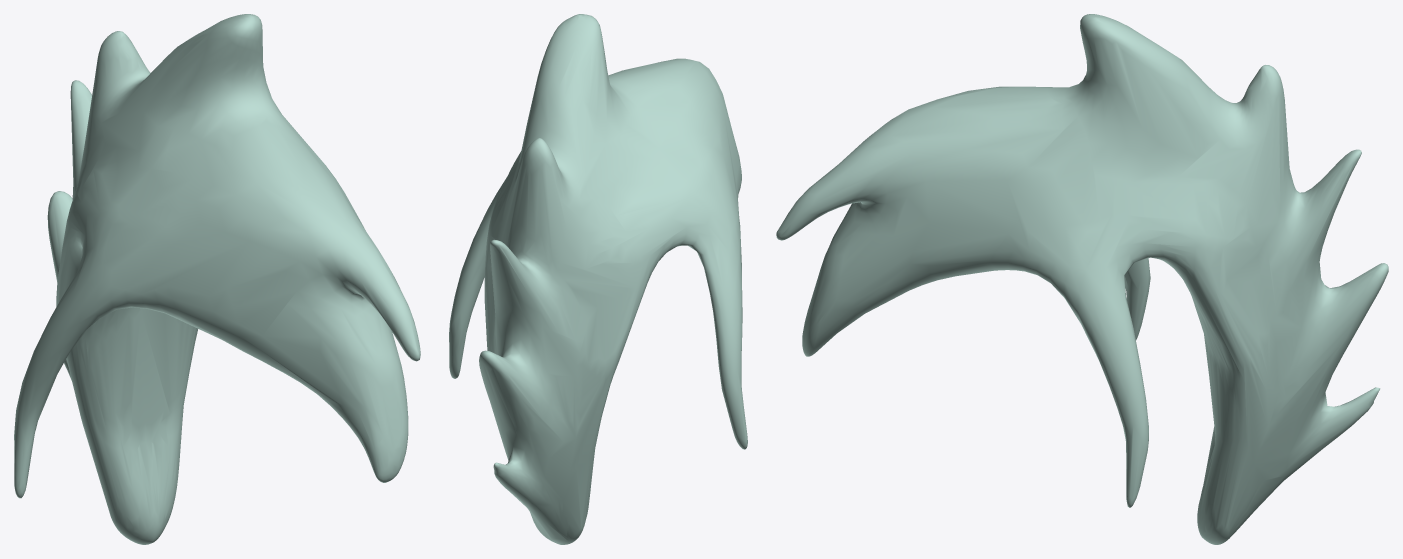
Rendered from Mane_20.fbx.
3 renders of one model, left to right at view 1: azimuth 30°, elevation 25°; view 2: azimuth 150°, elevation 25°; view 3: azimuth 270°, elevation 25°, orthographic. The views are drawn at different scales.
Visible parts, largest first — view 1: Mane_20; view 2: Mane_20; view 3: Mane_20.
Part boxes in pixels (bbox=[...]): Mane_20: bbox=[14, 14, 420, 544]; Mane_20: bbox=[449, 14, 747, 544]; Mane_20: bbox=[776, 14, 1388, 544].
Bounding box in the file's own units: 150 × 232 × 235.
